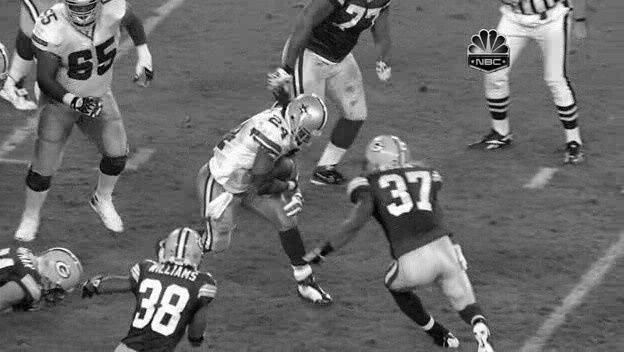person: (288, 100, 323, 145), (287, 100, 322, 145), (289, 100, 324, 145), (288, 99, 323, 144), (288, 101, 323, 146)
target_negative: (13, 141, 503, 223), (455, 108, 618, 319), (218, 146, 353, 331), (607, 180, 617, 302), (405, 5, 420, 58), (334, 258, 514, 262)
